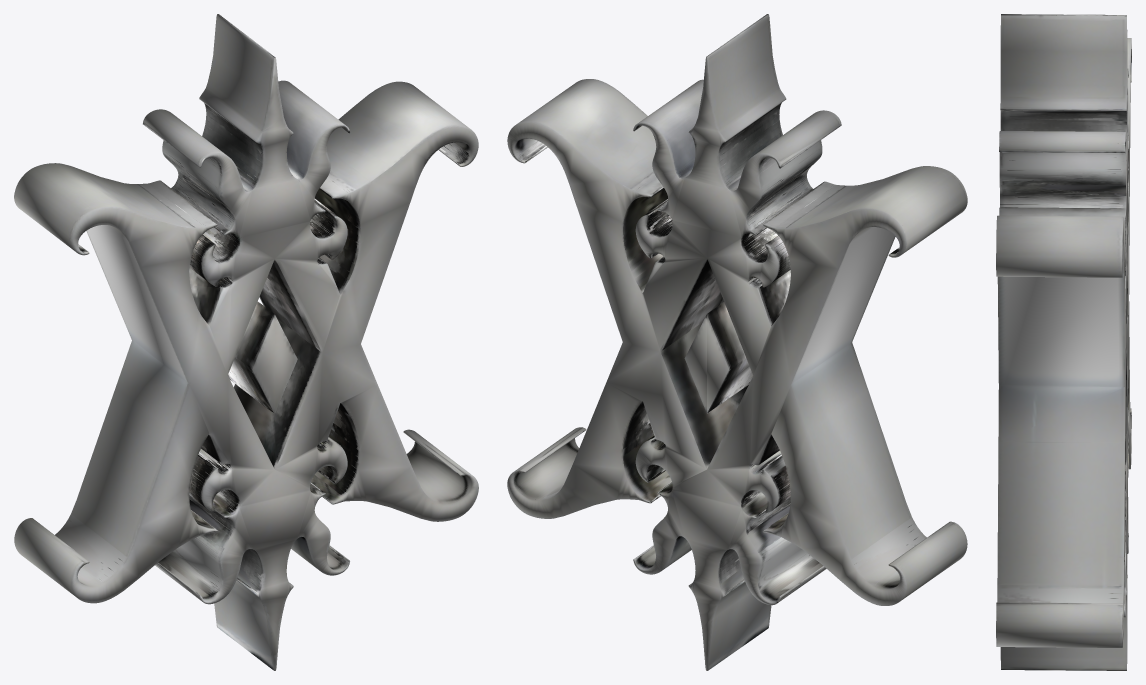
3 views of the same model, side by side, from view 1: azimuth 30°, elevation 25°; view 2: azimuth 150°, elevation 25°; view 3: azimuth 270°, elevation 25° (orthographic). The views are drawn at different scales.
Bounding box in the file's own units: 1.38 × 2 × 0.3755.
1 material, 1 textured.
